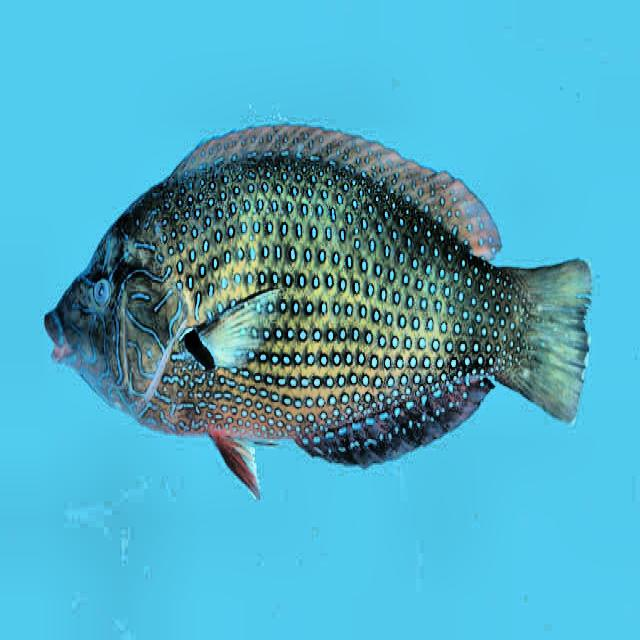fish: (45, 123, 590, 503)
